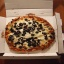olives: (7, 34, 40, 46), (12, 22, 37, 36), (36, 23, 44, 33)
pizza: (5, 18, 52, 51)
